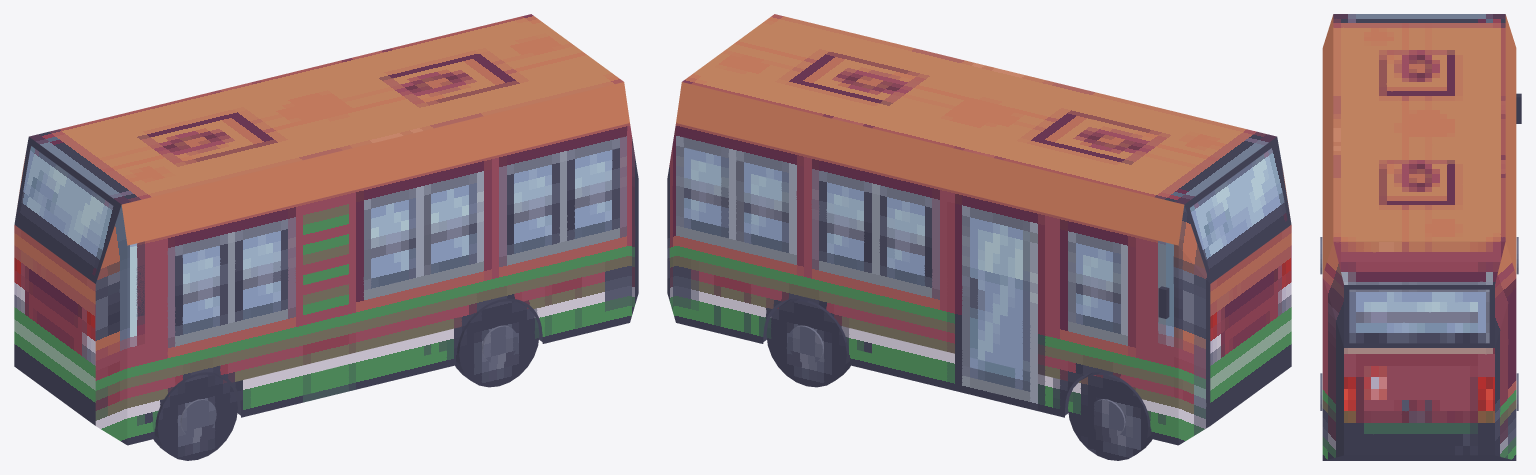
Rendered from bus-5-v1.glb.
3 views of the same model, side by side, from view 1: azimuth 30°, elevation 25°; view 2: azimuth 150°, elevation 25°; view 3: azimuth 270°, elevation 25° (orthographic). The views are drawn at different scales.
Visible parts, largest first — view 1: Bus-body-west, Roof, Roof-shoulder-west, Front-fascia, Windshield-glass, Front-corner-west, Tire_FL, Tire_RL, Windshield-frame, Rear-corner-west, Hub_FL, Hub_RL (+1 smaller); view 2: Bus-body-east, Roof, Roof-shoulder-east, Front-fascia, Windshield-glass, Front-corner-east, Tire_FR, Tire_RR, Windshield-frame, Rear-corner-east, Hub_FR, Hub_RR (+1 smaller); view 3: Roof, Rear-fascia, Rear-window-glass, Rear-roof-edge, Rear-corner-west, Rear-corner-east, Roof-shoulder-west, Roof-shoulder-east, Rear-window-frame, Rear-roof-corner-east, Rear-roof-corner-west, Underfloor-rear-bevel.
Boxes of the visible parts, box(x1,y1,x2,y2) form: Bus-body-west: box(127, 123, 629, 445); Roof: box(29, 14, 623, 204); Roof-shoulder-west: box(121, 82, 629, 245); Front-fascia: box(14, 225, 95, 425); Windshield-glass: box(18, 146, 116, 275); Front-corner-west: box(95, 246, 127, 444); Tire_FL: box(153, 372, 237, 460); Tire_RL: box(455, 298, 539, 387); Windshield-frame: box(14, 137, 121, 283); Rear-corner-west: box(630, 124, 638, 321); Hub_FL: box(180, 399, 216, 437); Hub_RL: box(482, 325, 518, 363); Bus-body-east: box(676, 123, 1178, 445); Roof: box(682, 14, 1276, 204); Roof-shoulder-east: box(676, 82, 1184, 245); Front-fascia: box(1210, 225, 1291, 425); Windshield-glass: box(1189, 146, 1287, 275); Front-corner-east: box(1178, 246, 1210, 444); Tire_FR: box(1068, 372, 1152, 460); Tire_RR: box(766, 298, 850, 387); Windshield-frame: box(1184, 137, 1291, 283); Rear-corner-east: box(667, 124, 675, 321); Hub_FR: box(1089, 399, 1125, 437); Hub_RR: box(787, 325, 823, 363); Roof: box(1333, 14, 1505, 241); Rear-fascia: box(1344, 348, 1494, 455); Rear-window-glass: box(1349, 289, 1489, 343); Rear-roof-edge: box(1333, 241, 1505, 284); Rear-corner-west: box(1322, 276, 1343, 460); Rear-corner-east: box(1495, 276, 1516, 460); Roof-shoulder-west: box(1322, 15, 1333, 274); Roof-shoulder-east: box(1505, 15, 1516, 274); Rear-window-frame: box(1344, 285, 1494, 347); Rear-roof-corner-east: box(1495, 242, 1516, 346); Rear-roof-corner-west: box(1322, 242, 1343, 346); Underfloor-rear-bevel: box(1323, 455, 1515, 460).
Size of the model in its own units: 108 by 51 by 37.45.
Materials: 1 (1 with a texture image).
